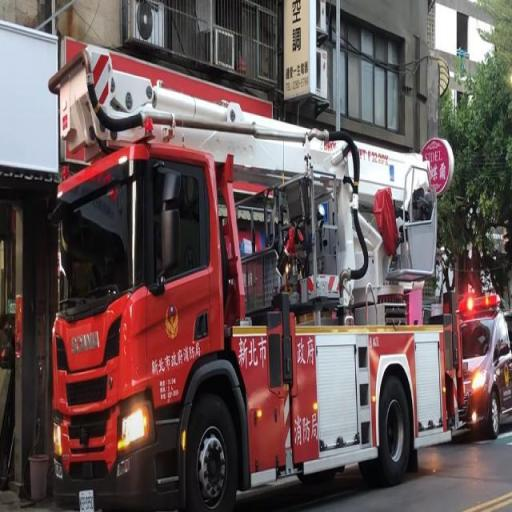fire truck: (39, 42, 468, 512)
